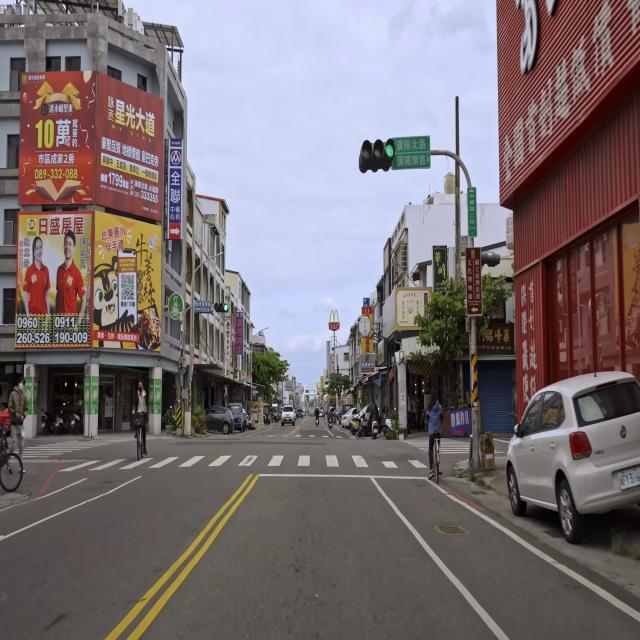green light: (358, 140, 395, 170), (214, 302, 229, 313)
